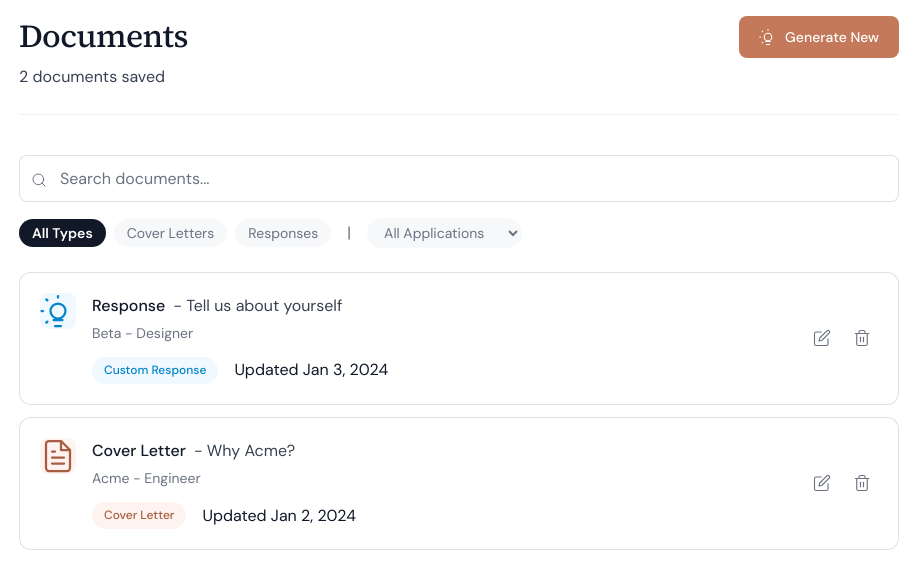
Test case: Documents › filters documents by search query
Type "Acme" into the field with placeholder "Search documents..." at (459, 178), box [19,155,899,202]
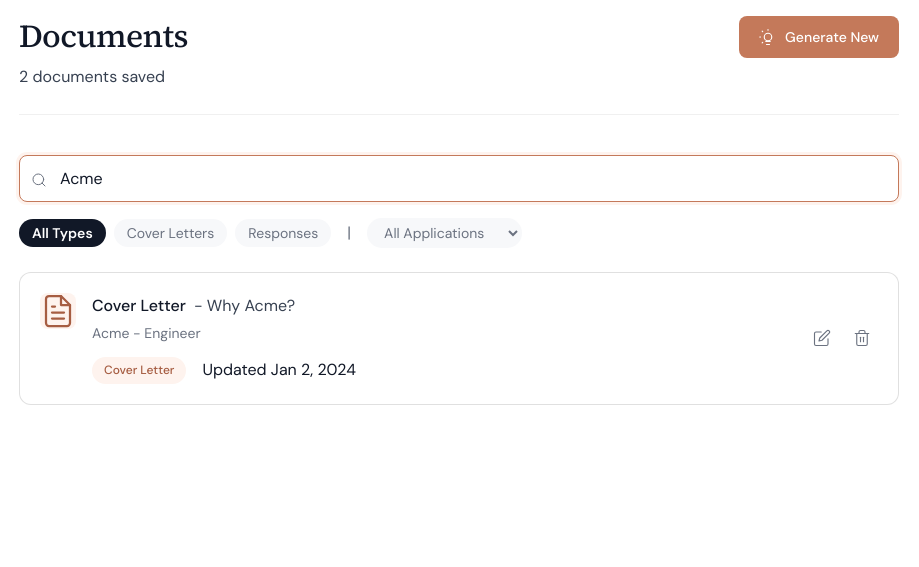
Expected: the text "Acme - Engineer" is shown, [92,324,201,342]
Expected: the text "Beta - Designer" is gone
